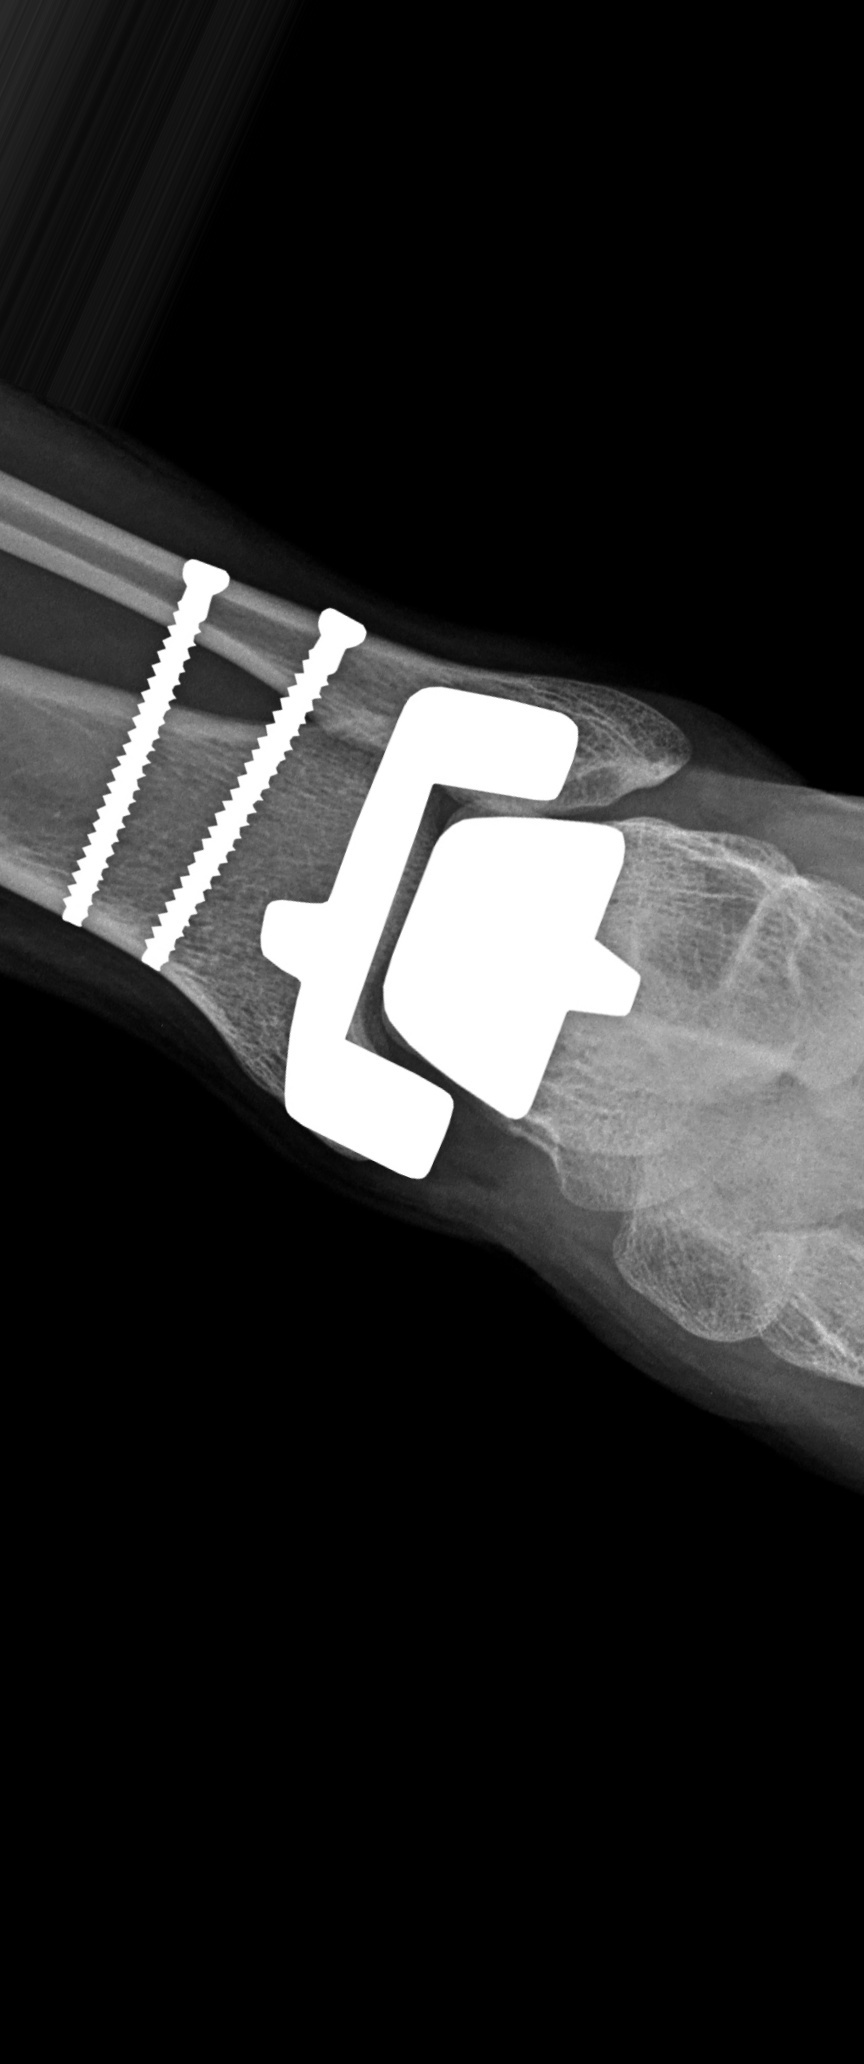Ankle - Agility - DePuy: (54, 524, 653, 1203)
